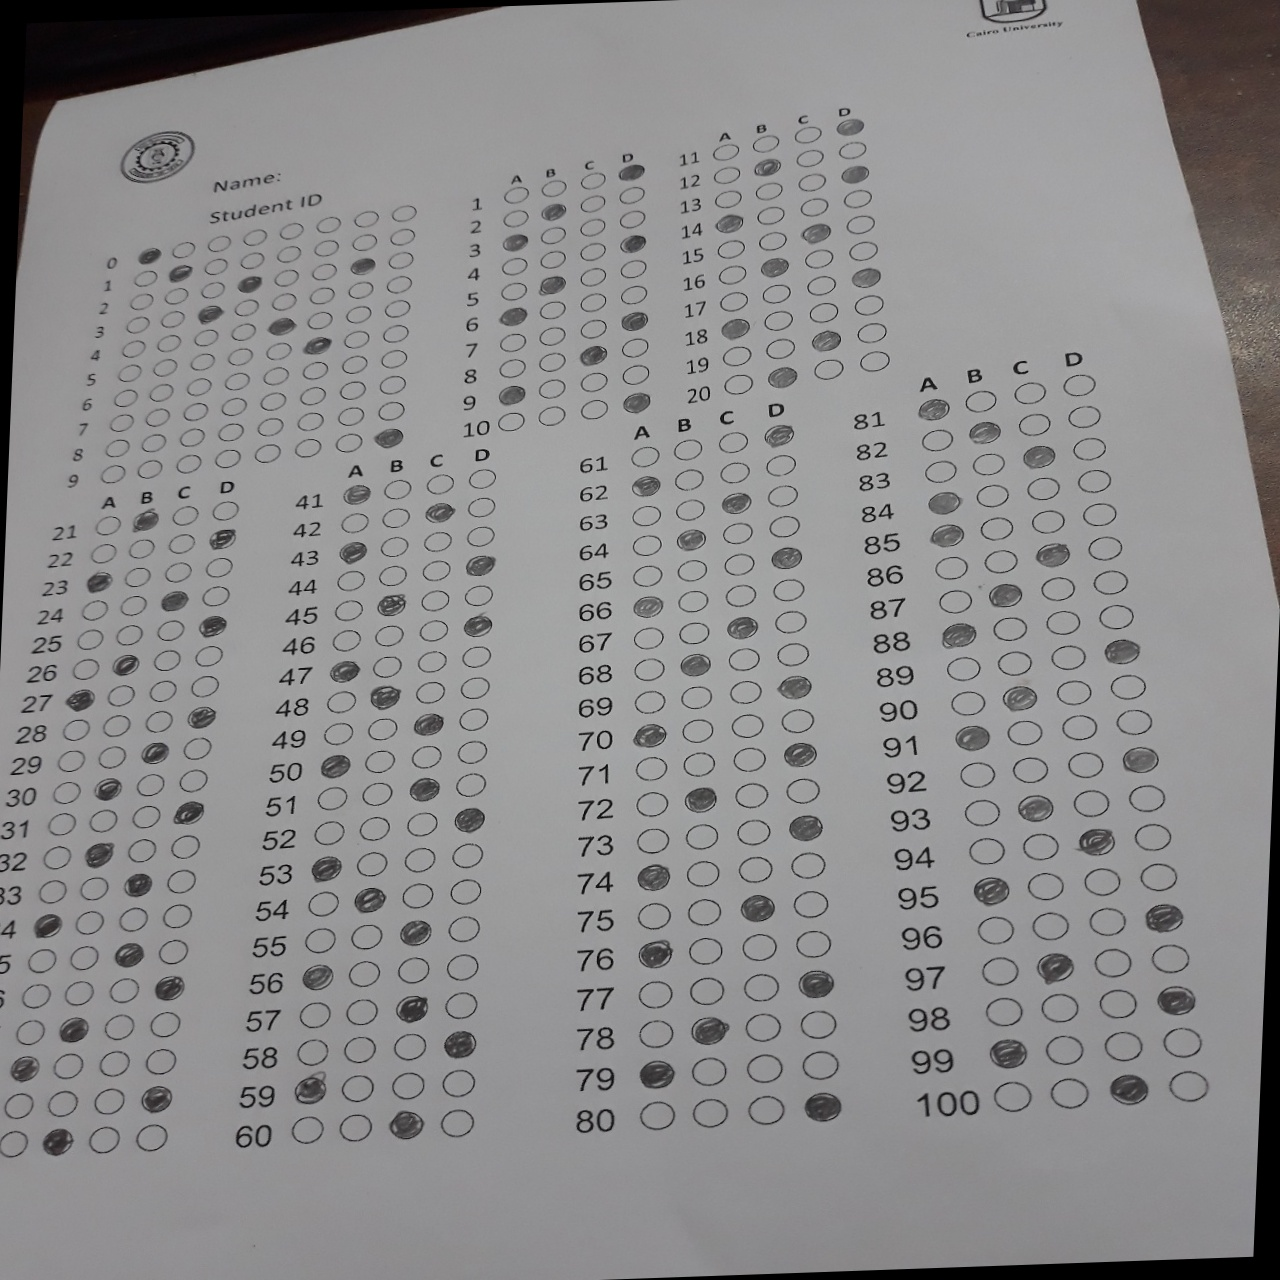not-c: (1099, 985, 1138, 1017), (1046, 1033, 1084, 1065), (1162, 1026, 1201, 1057), (983, 995, 1024, 1026), (745, 1051, 783, 1084), (1039, 992, 1077, 1023), (747, 1095, 785, 1126), (1150, 942, 1189, 973), (1170, 1070, 1208, 1101), (1050, 1077, 1089, 1108), (993, 1080, 1032, 1110), (741, 931, 776, 964), (1, 1090, 36, 1123), (1026, 870, 1063, 900), (967, 835, 1005, 865), (1105, 1030, 1143, 1061), (690, 1055, 728, 1085), (692, 1097, 729, 1128), (638, 1098, 675, 1129), (339, 1074, 376, 1104), (387, 1070, 425, 1099), (342, 994, 379, 1024), (341, 1033, 377, 1063), (1032, 911, 1069, 940), (964, 797, 1001, 826), (1094, 947, 1131, 976), (393, 1032, 430, 1061), (336, 1112, 374, 1142), (290, 1114, 328, 1142), (687, 896, 722, 926), (688, 935, 723, 966), (638, 978, 673, 1008), (638, 1019, 673, 1049), (689, 974, 724, 1005), (803, 1048, 838, 1078), (971, 448, 1007, 477), (933, 553, 969, 583), (934, 585, 971, 614), (1007, 716, 1043, 745), (1022, 832, 1058, 862), (437, 1069, 474, 1098), (297, 998, 333, 1027), (438, 1108, 475, 1137), (978, 914, 1015, 942), (980, 955, 1017, 983), (636, 899, 670, 930), (1044, 606, 1080, 635), (990, 612, 1026, 641), (790, 850, 825, 879), (744, 971, 779, 1000), (799, 1009, 835, 1039), (1067, 402, 1103, 430), (1081, 499, 1117, 527), (1012, 377, 1048, 406), (1026, 474, 1062, 502), (978, 513, 1014, 542), (920, 425, 956, 454), (922, 457, 959, 485), (1110, 670, 1146, 699), (1115, 707, 1151, 735), (1062, 712, 1098, 740), (1067, 750, 1103, 778), (945, 653, 981, 681), (1129, 782, 1165, 810), (1073, 788, 1109, 816), (1084, 867, 1121, 896), (1090, 906, 1126, 934), (295, 1037, 332, 1065), (1028, 508, 1065, 535), (1055, 678, 1092, 704), (1133, 823, 1171, 850), (745, 1010, 779, 1040), (1071, 433, 1107, 461), (1017, 409, 1053, 437), (964, 387, 999, 415), (1050, 642, 1085, 670), (998, 648, 1033, 676), (1012, 754, 1047, 782), (948, 688, 983, 716), (1141, 862, 1176, 890), (736, 818, 771, 846), (685, 858, 720, 886), (792, 890, 828, 918), (1063, 370, 1099, 397), (1076, 467, 1112, 493), (1085, 535, 1122, 561), (1092, 568, 1129, 595), (974, 481, 1010, 508), (1097, 602, 1133, 629), (958, 760, 994, 787), (150, 1007, 182, 1037), (76, 872, 109, 901), (683, 822, 717, 850), (738, 855, 772, 883), (1039, 576, 1074, 602), (982, 547, 1017, 574), (795, 930, 830, 956), (70, 940, 101, 971), (86, 1125, 117, 1155), (96, 742, 128, 771), (355, 847, 388, 876), (46, 1089, 79, 1117), (87, 806, 120, 835), (629, 501, 663, 527), (730, 712, 764, 738), (445, 915, 479, 942), (400, 881, 434, 908), (348, 960, 382, 987), (444, 952, 478, 979), (763, 452, 798, 478), (772, 607, 808, 633), (717, 459, 753, 485), (674, 495, 709, 520), (676, 588, 712, 614), (629, 563, 665, 588), (734, 781, 769, 806), (635, 828, 670, 853), (104, 1013, 135, 1042), (145, 1048, 176, 1077), (137, 1123, 168, 1152), (97, 1049, 129, 1077), (94, 1085, 125, 1114), (52, 1051, 83, 1080), (73, 907, 104, 935), (313, 818, 346, 845), (406, 810, 438, 837), (458, 704, 491, 731), (455, 738, 488, 765), (449, 840, 482, 867), (348, 922, 381, 949), (445, 990, 478, 1017), (107, 978, 139, 1005), (770, 576, 804, 601), (670, 464, 704, 490), (676, 557, 710, 583), (629, 532, 663, 558), (632, 625, 666, 651), (631, 656, 665, 682), (716, 429, 751, 454), (676, 620, 712, 645), (62, 979, 93, 1007), (404, 846, 437, 872), (409, 743, 442, 769), (455, 770, 488, 796), (449, 877, 482, 903), (308, 891, 341, 917), (305, 926, 338, 952), (395, 956, 428, 982), (100, 713, 132, 738), (765, 483, 799, 508), (768, 515, 802, 539), (670, 436, 704, 461), (719, 520, 753, 545), (722, 551, 756, 576), (721, 583, 755, 607), (627, 444, 661, 469), (632, 690, 666, 715), (633, 755, 667, 779), (681, 750, 715, 775), (681, 719, 715, 743), (679, 685, 713, 709), (729, 680, 763, 704), (733, 745, 767, 770), (779, 707, 813, 731), (775, 641, 809, 666), (787, 777, 821, 802), (635, 790, 669, 815), (726, 646, 758, 670), (373, 624, 406, 648), (339, 509, 372, 533), (161, 903, 193, 927), (103, 683, 136, 708), (89, 540, 122, 565), (18, 1017, 47, 1044), (362, 781, 393, 806), (21, 982, 52, 1008), (467, 493, 498, 518), (462, 583, 493, 607), (420, 530, 451, 554), (417, 618, 449, 642), (414, 651, 445, 675), (377, 563, 409, 587), (369, 655, 401, 680), (359, 816, 390, 840), (136, 772, 168, 797), (90, 512, 122, 537), (79, 597, 110, 621), (324, 688, 356, 712), (366, 717, 399, 741), (465, 522, 496, 546), (420, 588, 450, 613), (324, 720, 354, 744), (365, 747, 395, 771), (177, 768, 207, 792), (157, 939, 188, 964), (50, 779, 81, 804), (462, 644, 493, 667), (420, 557, 451, 580), (379, 536, 410, 559), (318, 787, 349, 810), (122, 564, 154, 587), (168, 835, 199, 858), (57, 748, 89, 771), (46, 812, 77, 836), (413, 682, 445, 704), (38, 879, 67, 904), (467, 465, 497, 489), (458, 676, 489, 700), (424, 472, 455, 496), (382, 477, 413, 501), (381, 505, 411, 529), (335, 568, 366, 592), (331, 627, 361, 651), (143, 709, 173, 733), (131, 804, 162, 828), (125, 838, 156, 862), (166, 869, 197, 892), (116, 906, 147, 930), (68, 658, 98, 681), (62, 717, 93, 741), (41, 845, 72, 869), (27, 947, 57, 971), (332, 600, 363, 622), (125, 537, 157, 559), (794, 148, 826, 169), (795, 170, 828, 191), (804, 274, 837, 295), (751, 131, 784, 152), (761, 309, 794, 331), (856, 322, 888, 343), (713, 237, 745, 258), (717, 290, 750, 311), (811, 358, 844, 379), (162, 561, 195, 583), (537, 299, 567, 321), (501, 206, 531, 229), (170, 504, 200, 526), (166, 532, 197, 554), (195, 645, 225, 667), (151, 647, 182, 669), (147, 678, 177, 700), (76, 629, 107, 652), (199, 256, 230, 278), (792, 125, 824, 147), (806, 302, 838, 324), (756, 204, 788, 225), (757, 230, 789, 251), (758, 281, 790, 302), (709, 141, 741, 162), (716, 263, 748, 284), (723, 373, 755, 394), (857, 350, 888, 372), (156, 619, 188, 640), (114, 625, 145, 646), (182, 737, 213, 758), (222, 370, 253, 392), (172, 452, 204, 474), (185, 350, 217, 372), (203, 232, 234, 253), (135, 458, 166, 479), (799, 196, 832, 216), (802, 248, 835, 268), (754, 181, 787, 200), (763, 338, 796, 358), (712, 165, 744, 185), (713, 188, 745, 207), (721, 346, 754, 366), (263, 341, 295, 361), (257, 392, 290, 411), (154, 331, 186, 350), (141, 407, 173, 427), (535, 324, 564, 346), (537, 223, 566, 245), (501, 184, 530, 206), (498, 280, 527, 302), (537, 377, 567, 399), (205, 557, 236, 578), (199, 585, 230, 606), (120, 595, 150, 617), (190, 676, 220, 697), (229, 320, 259, 341), (218, 396, 248, 417), (178, 425, 209, 447), (108, 411, 138, 433), (853, 294, 885, 314), (209, 501, 240, 520), (290, 437, 321, 457), (275, 222, 307, 241), (274, 244, 306, 264), (271, 268, 302, 288), (266, 291, 298, 311), (254, 417, 286, 437), (240, 226, 272, 246), (236, 250, 267, 270), (231, 297, 263, 316), (224, 345, 256, 365), (251, 443, 282, 463), (183, 376, 215, 396), (195, 280, 226, 300), (156, 308, 188, 328), (149, 358, 181, 377), (147, 382, 178, 402), (100, 440, 131, 459), (122, 291, 154, 311), (540, 176, 568, 198), (501, 256, 529, 278), (499, 331, 527, 353), (538, 350, 567, 372), (497, 358, 526, 379), (498, 411, 527, 433), (339, 379, 368, 400), (298, 384, 327, 406), (260, 366, 291, 386), (215, 421, 245, 441), (212, 449, 243, 469), (181, 401, 211, 421), (192, 327, 223, 347), (166, 239, 197, 259), (159, 286, 190, 306), (96, 462, 127, 482), (114, 362, 144, 382), (116, 338, 147, 358), (129, 267, 159, 287), (837, 141, 869, 159), (840, 189, 872, 207), (847, 240, 879, 259), (617, 184, 645, 205), (618, 207, 646, 229), (537, 404, 565, 425), (352, 207, 380, 229), (349, 232, 377, 253), (386, 248, 414, 270), (383, 298, 411, 319), (377, 400, 406, 421), (343, 328, 372, 349), (309, 261, 338, 282), (537, 248, 566, 268), (307, 286, 336, 306), (138, 433, 168, 452), (111, 386, 141, 406), (120, 314, 149, 334), (844, 215, 874, 233), (579, 291, 606, 312), (579, 318, 606, 339), (389, 226, 416, 247), (380, 348, 407, 369), (379, 374, 406, 395), (345, 302, 372, 324), (619, 259, 647, 279), (620, 285, 648, 305), (580, 372, 608, 392), (580, 399, 608, 418), (314, 237, 342, 257), (387, 273, 415, 293), (380, 324, 408, 343), (334, 431, 362, 451), (335, 406, 363, 425), (304, 311, 332, 331), (300, 360, 328, 380), (297, 411, 325, 431), (621, 338, 648, 358), (621, 365, 648, 384), (579, 192, 606, 212), (579, 241, 606, 261), (579, 266, 606, 286), (390, 202, 417, 222), (316, 213, 343, 233), (339, 354, 366, 374), (346, 279, 373, 299), (580, 169, 606, 189), (578, 217, 604, 237)
taken-c: (988, 1036, 1030, 1068), (969, 873, 1012, 905), (982, 579, 1024, 611), (1109, 1073, 1150, 1104), (1155, 983, 1196, 1015), (1036, 949, 1077, 981), (1144, 903, 1185, 934), (1119, 743, 1160, 775), (1101, 635, 1142, 667), (1074, 825, 1115, 856), (1014, 791, 1055, 822), (1000, 682, 1041, 713), (952, 722, 993, 753), (953, 721, 993, 751), (56, 1012, 91, 1044), (29, 910, 64, 942), (39, 1125, 75, 1157), (925, 488, 964, 517), (966, 416, 1005, 445), (915, 394, 954, 423), (1032, 540, 1071, 568), (1019, 443, 1058, 471), (8, 1051, 43, 1083), (111, 939, 147, 971), (137, 1083, 173, 1114), (803, 1091, 840, 1121), (939, 621, 978, 649), (154, 973, 188, 1005), (440, 1029, 476, 1058), (388, 1109, 424, 1138), (797, 969, 835, 998), (640, 1060, 678, 1088), (928, 522, 966, 550), (782, 738, 817, 768), (292, 1075, 328, 1103), (690, 1017, 728, 1044), (636, 863, 670, 892), (394, 995, 428, 1024), (638, 939, 673, 967), (368, 682, 403, 710), (107, 652, 143, 679), (138, 738, 172, 767), (740, 893, 774, 921), (373, 591, 407, 619), (350, 884, 384, 912), (89, 775, 124, 802), (129, 508, 164, 535), (204, 526, 239, 553), (338, 481, 373, 508), (328, 658, 363, 685), (407, 776, 442, 803), (120, 870, 154, 897), (83, 840, 117, 867), (170, 798, 204, 825), (185, 703, 219, 730), (64, 685, 98, 712), (195, 613, 229, 640), (157, 587, 191, 614), (83, 568, 117, 595), (719, 488, 753, 515), (726, 613, 760, 640), (683, 787, 717, 813), (787, 813, 821, 840), (336, 537, 370, 564), (422, 498, 456, 525), (462, 551, 496, 578), (459, 611, 493, 638), (411, 712, 445, 738), (319, 753, 353, 779), (452, 805, 486, 832), (308, 855, 342, 881), (399, 918, 433, 945), (301, 964, 335, 990), (629, 474, 662, 501), (674, 527, 707, 553), (631, 593, 663, 619), (679, 651, 712, 676), (634, 722, 667, 748), (778, 673, 811, 699), (762, 421, 794, 447), (771, 544, 803, 570), (373, 425, 404, 450), (499, 231, 531, 256), (536, 272, 567, 297), (497, 305, 527, 329), (496, 383, 527, 407), (265, 315, 298, 338), (767, 366, 797, 389), (850, 266, 880, 290), (753, 155, 783, 178), (196, 302, 227, 325), (302, 335, 334, 358), (760, 257, 789, 280), (714, 210, 743, 233), (839, 161, 869, 184), (835, 115, 864, 138), (801, 220, 831, 243), (811, 329, 840, 352), (538, 200, 567, 222), (166, 263, 195, 284), (617, 162, 645, 183), (619, 233, 647, 254), (578, 345, 606, 366), (134, 244, 161, 265), (348, 256, 375, 277), (234, 274, 263, 294), (619, 311, 647, 331), (622, 392, 651, 411), (721, 319, 749, 339)
